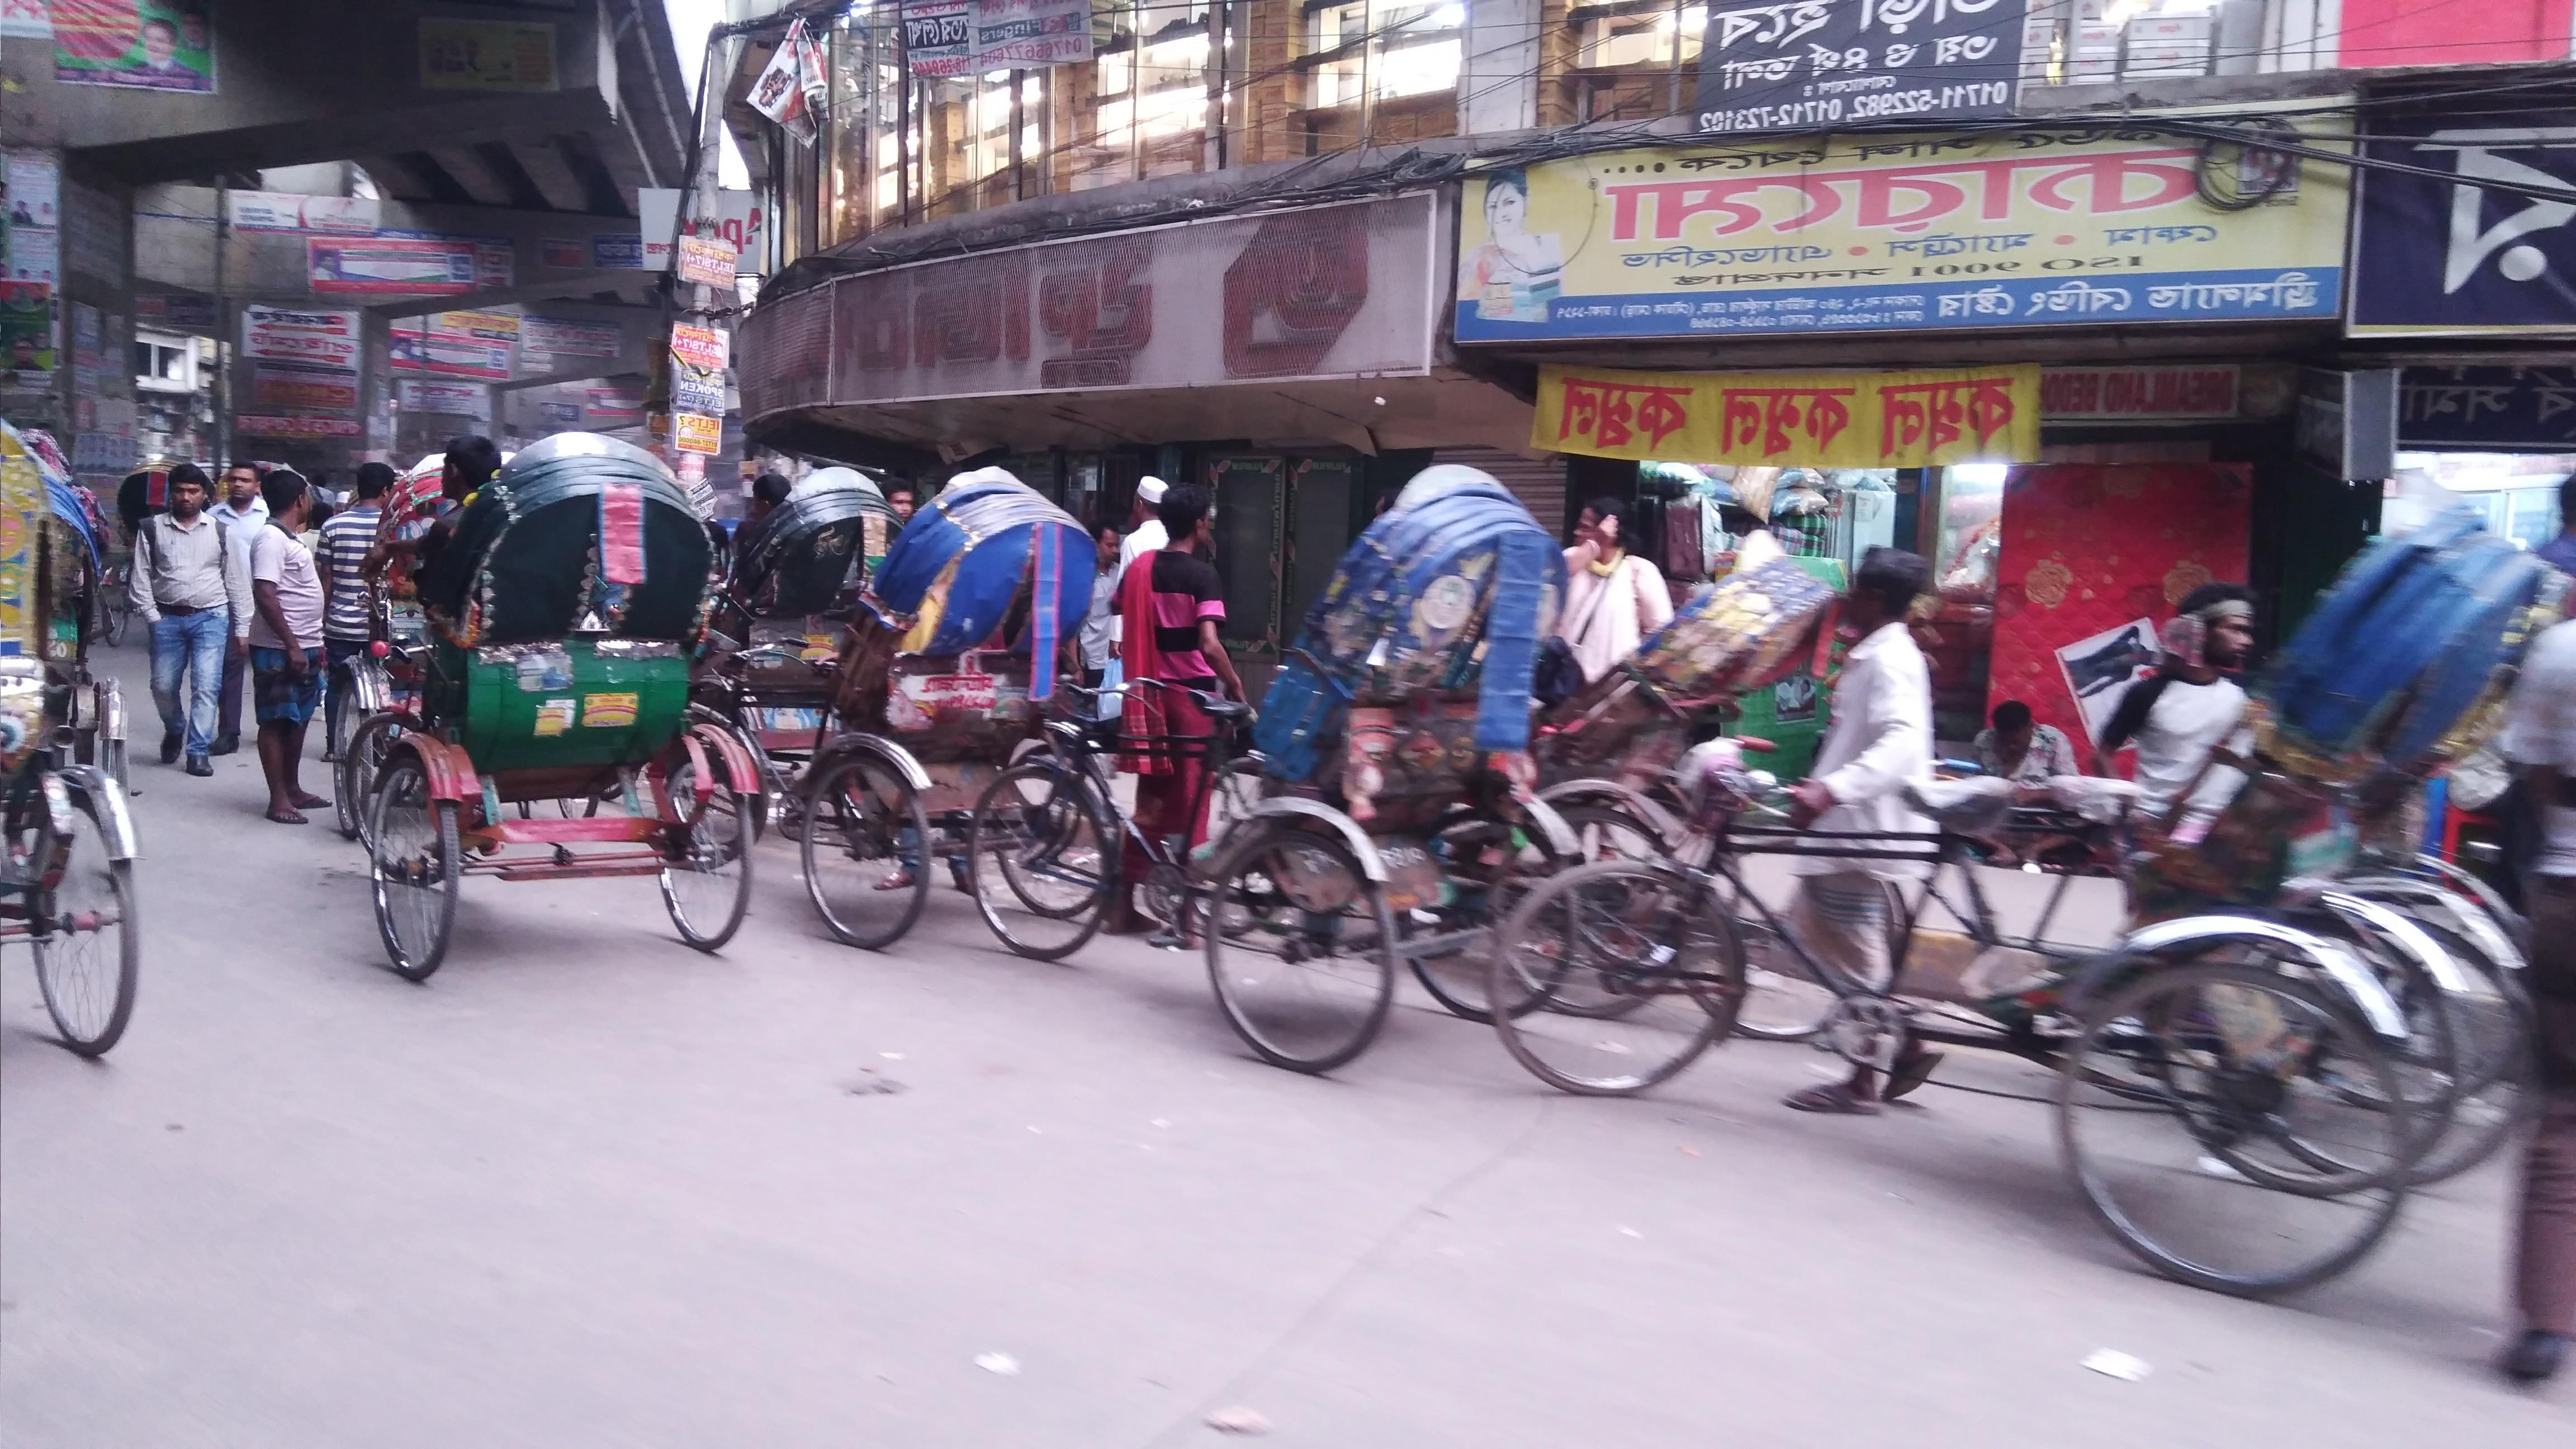Rickshaw: (1532, 478, 2553, 1327), (1063, 464, 1576, 1077), (356, 393, 768, 1046), (840, 402, 1092, 1012), (1562, 485, 1872, 858), (11, 391, 145, 1072), (702, 449, 899, 874)
